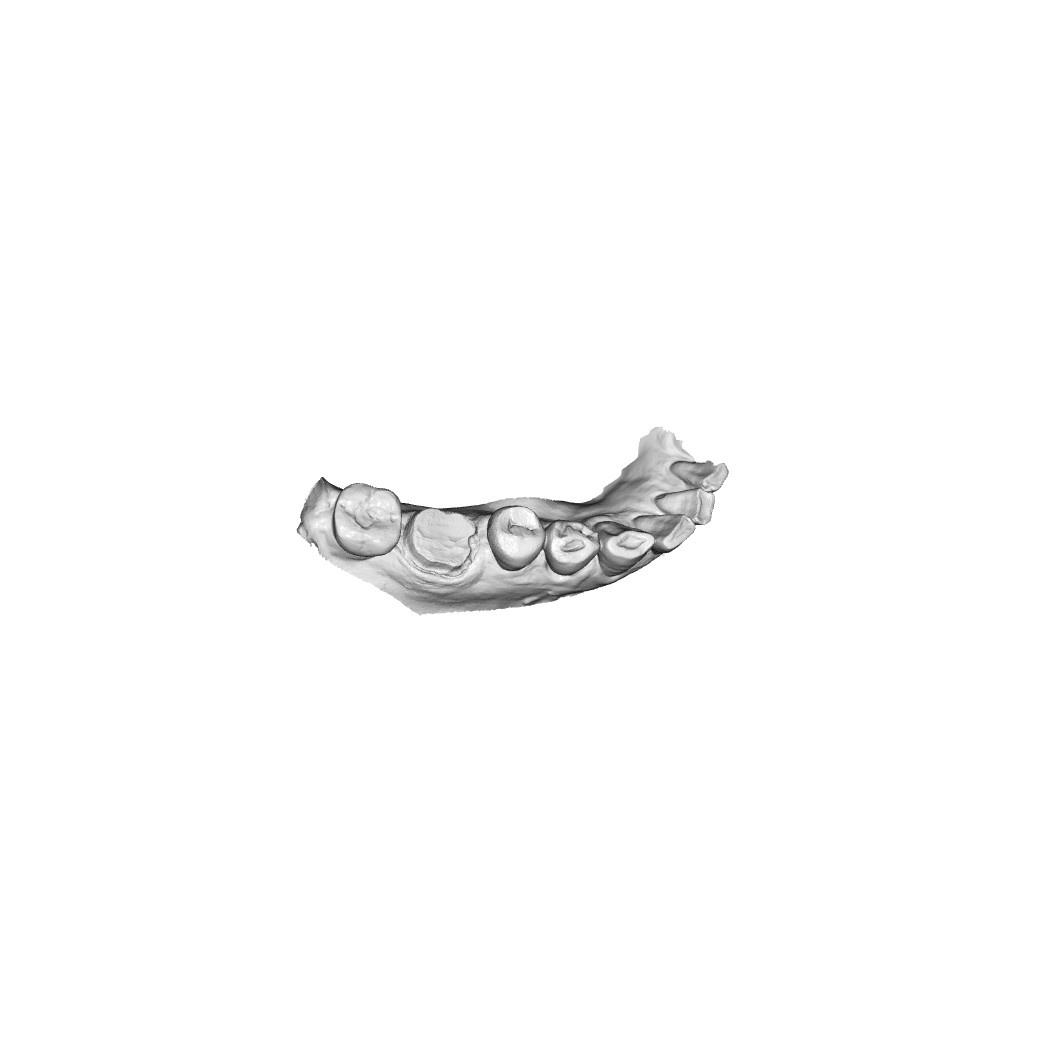canine: (603, 521, 654, 568)
incisor: (658, 456, 735, 491), (638, 512, 689, 552), (663, 493, 712, 521)
molar: (332, 481, 413, 561), (411, 505, 475, 570)
premolar: (489, 503, 549, 566), (551, 521, 597, 586)
